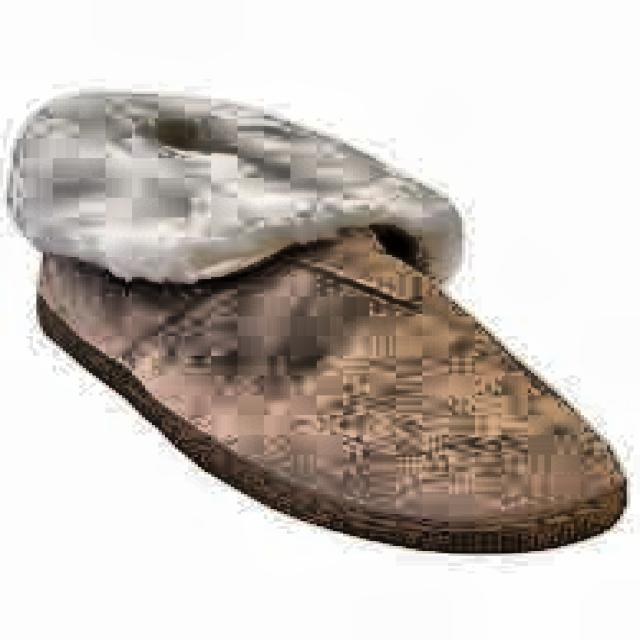shoes: (0, 81, 628, 558)
